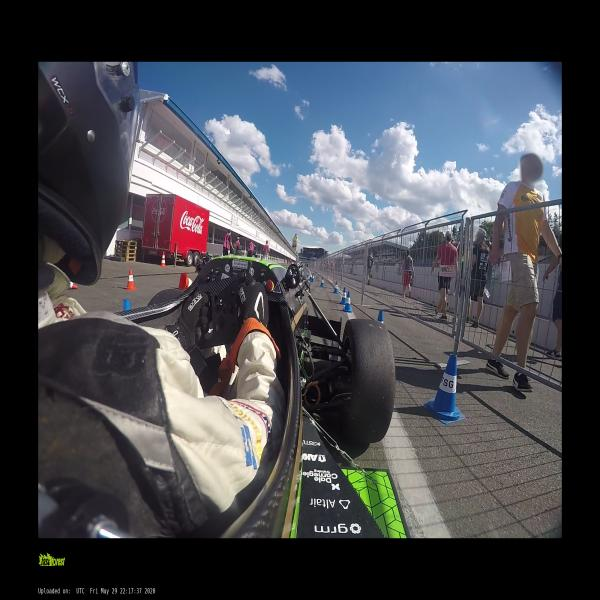blue_cone: (428, 353, 462, 422), (343, 291, 352, 312), (340, 288, 348, 305), (376, 311, 384, 325), (123, 298, 131, 312), (333, 281, 338, 294), (320, 276, 324, 287), (312, 274, 314, 281)
large_orange_cone: (179, 273, 194, 288), (159, 252, 167, 268)
orange_cone: (125, 269, 136, 291)
